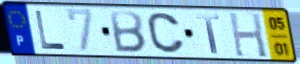7: (64, 7, 99, 55)
B: (108, 9, 148, 54)
C: (145, 11, 187, 55)
H: (227, 11, 270, 60)
L: (33, 9, 68, 52)
T: (195, 13, 222, 55)
